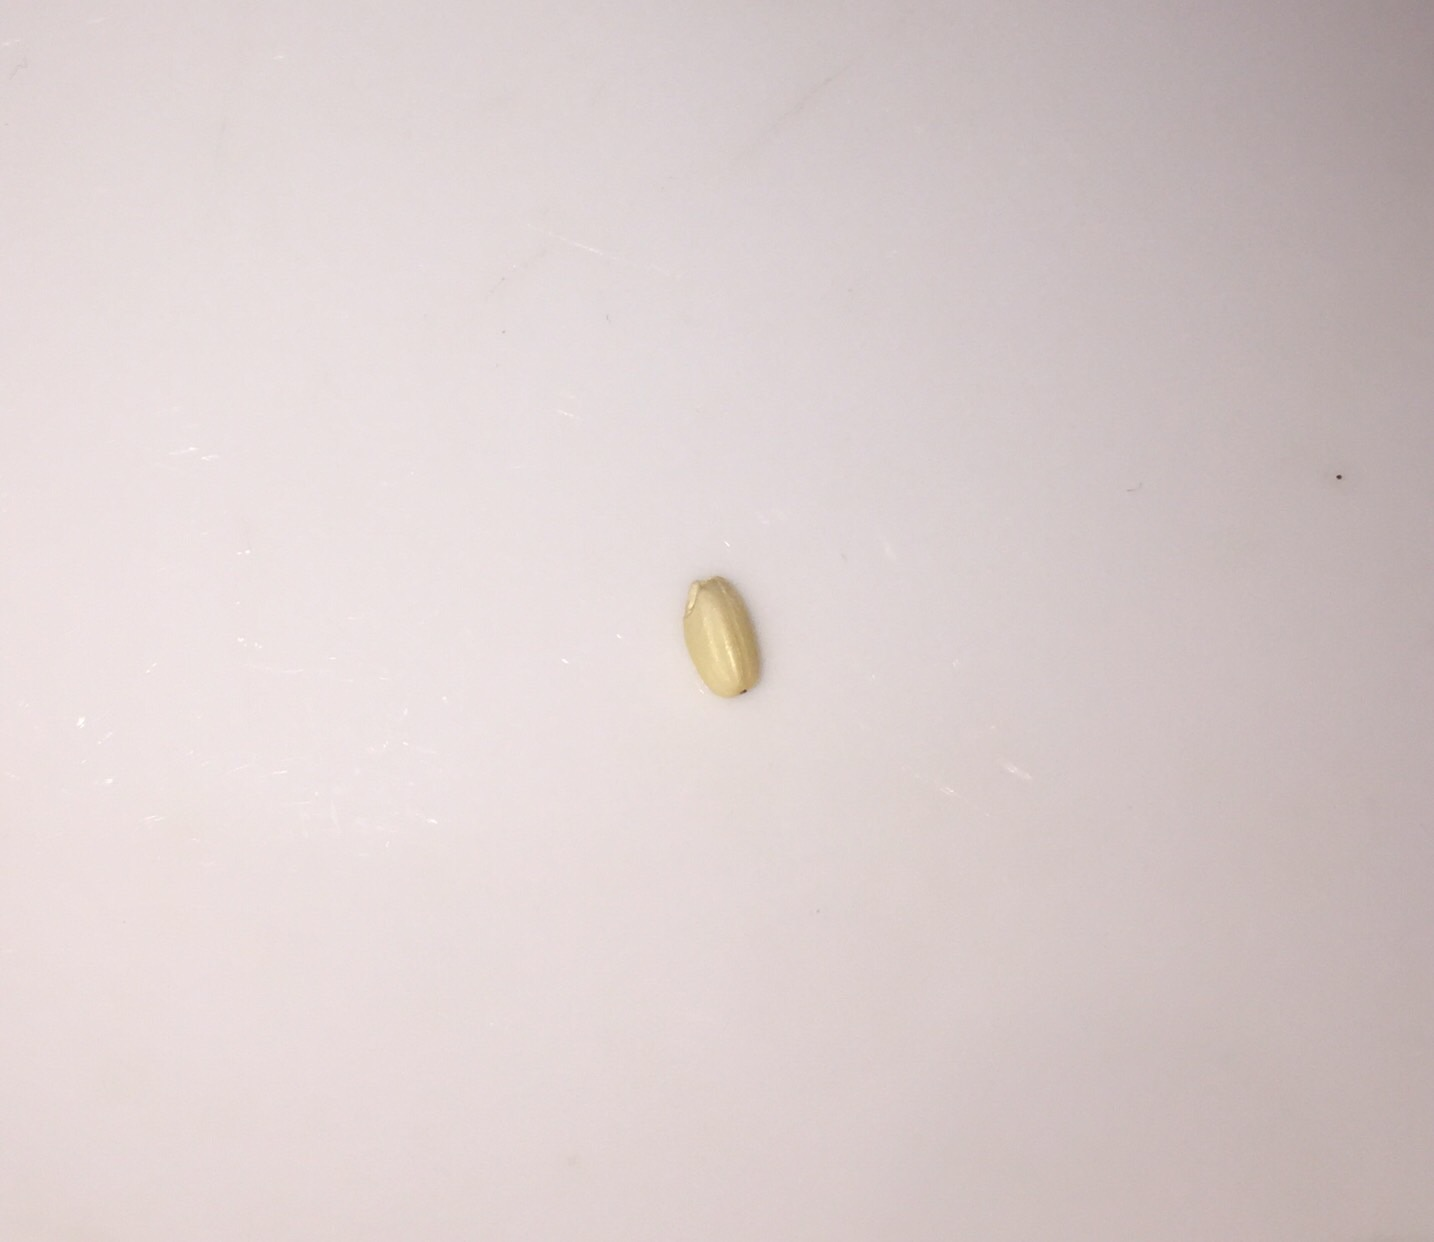Gao Lut Bac: (667, 538, 787, 726)
